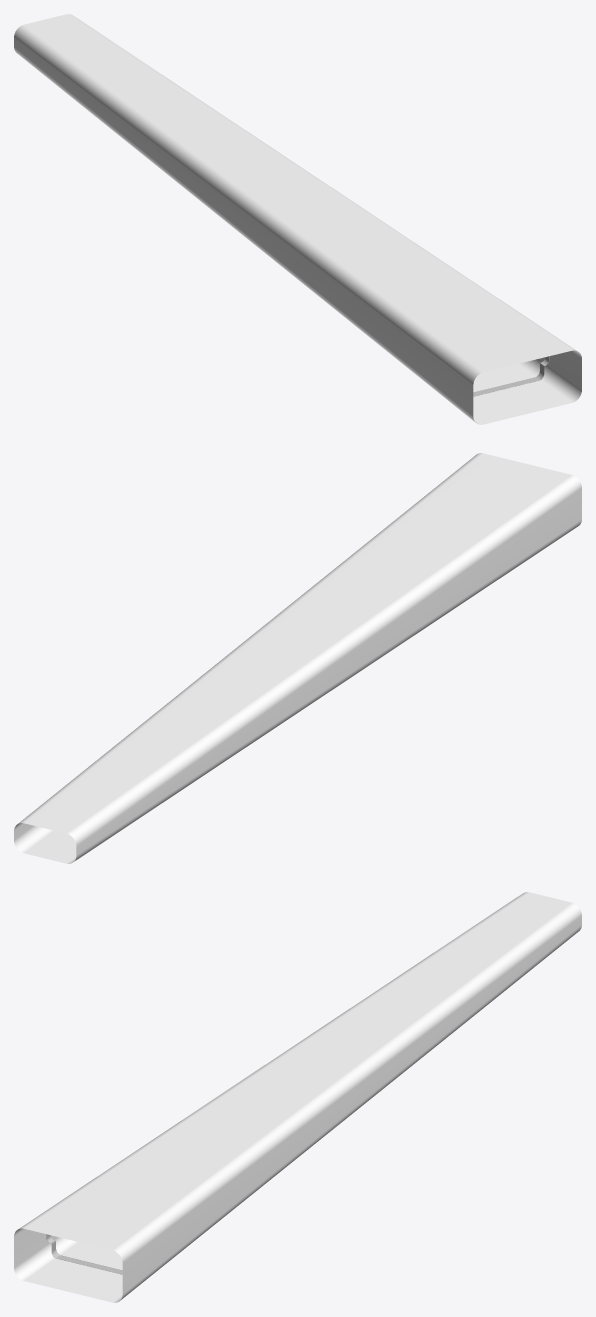
The model's file is testArenaMeshes.fbx.
3 renders of one model, top to bottom at view 1: azimuth 30°, elevation 25°; view 2: azimuth 150°, elevation 25°; view 3: azimuth 330°, elevation 25°, orthographic.
Visible parts, largest first — view 1: TunnelMesh_01; view 2: TunnelMesh_01; view 3: TunnelMesh_01.
Boxes of the visible parts, left/top/right/bottom form: TunnelMesh_01: left=14, top=14, right=581, bottom=424; TunnelMesh_01: left=14, top=453, right=581, bottom=863; TunnelMesh_01: left=14, top=892, right=581, bottom=1302.
Bounding box in the file's own units: 787 × 362 × 6058.
